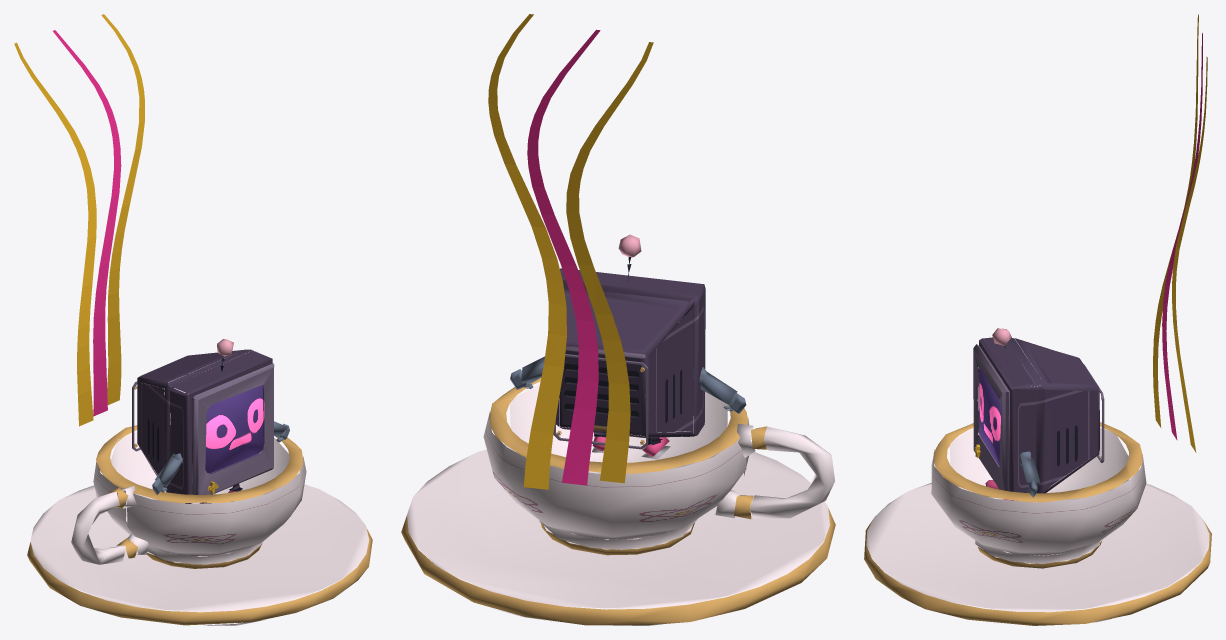
File: prime.trail.podium.lod1.glb
The picture shows the model from 3 angles, left to right: view 1: azimuth 30°, elevation 25°; view 2: azimuth 150°, elevation 25°; view 3: azimuth 270°, elevation 25°; orthographic projection. The views are drawn at different scales.
Parts seen in each view (by area): view 1: emi_teacup_mesh, podium_ribbon_2, podium_ribbon_1, podium_ribbon_0; view 2: emi_teacup_mesh, podium_ribbon_0, podium_ribbon_1, podium_ribbon_2; view 3: emi_teacup_mesh, podium_ribbon_0, podium_ribbon_1, podium_ribbon_2.
Boxes of the visible parts, x1,y1,x2,y2 form: emi_teacup_mesh: [27, 339, 372, 625]; podium_ribbon_2: [14, 42, 96, 426]; podium_ribbon_1: [53, 30, 121, 416]; podium_ribbon_0: [101, 14, 144, 404]; emi_teacup_mesh: [401, 234, 835, 625]; podium_ribbon_0: [488, 14, 566, 489]; podium_ribbon_1: [527, 29, 600, 485]; podium_ribbon_2: [566, 42, 653, 483]; emi_teacup_mesh: [864, 328, 1211, 625]; podium_ribbon_0: [1172, 56, 1207, 452]; podium_ribbon_1: [1162, 33, 1202, 440]; podium_ribbon_2: [1153, 14, 1198, 427].
Size of the model in its own units: 0.372 by 0.5853 by 0.3661.
4 materials, 2 textured.
